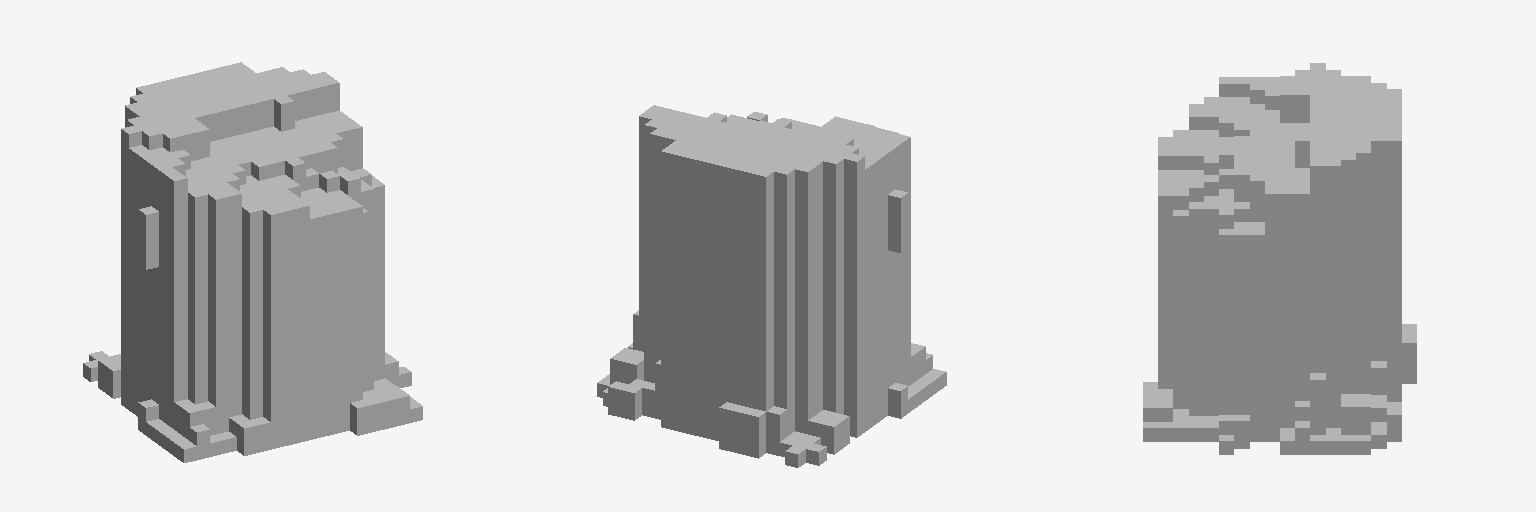
The model's file is FallenTree-1.obj.
3 views of the same model, side by side, from view 1: azimuth 30°, elevation 25°; view 2: azimuth 150°, elevation 25°; view 3: azimuth 270°, elevation 25° (orthographic).
Parts seen in each view (by area): view 1: object 1; view 2: object 1; view 3: object 1.
Boxes of the visible parts, <box> form: object 1: <box>83,62,422,462</box>; object 1: <box>597,105,946,467</box>; object 1: <box>1143,63,1416,454</box>.
Bounding box in the file's own units: 1.9 × 2 × 1.8.